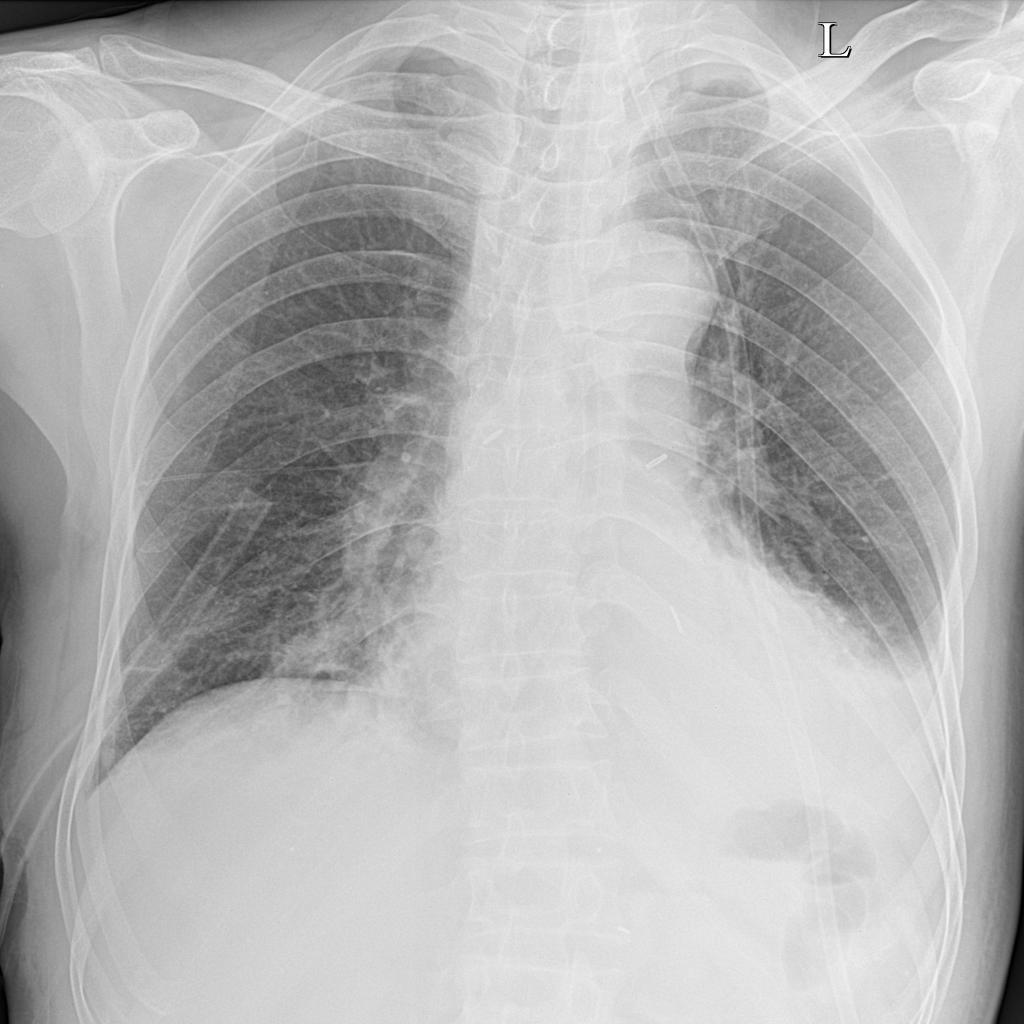Nodule: (92, 744, 124, 769)
